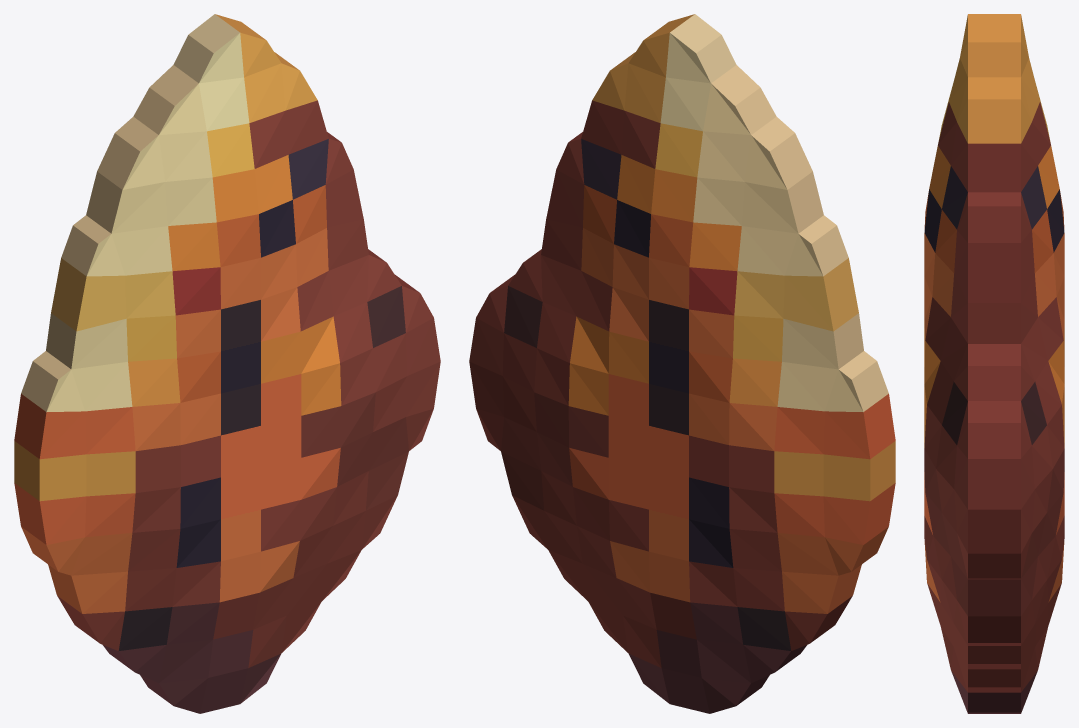
File: jagged_rock.glb
3 renders of one model, left to right at view 1: azimuth 30°, elevation 25°; view 2: azimuth 150°, elevation 25°; view 3: azimuth 270°, elevation 25°, orthographic. The views are drawn at different scales.
Visible parts, largest first — view 1: jagged_rock; view 2: jagged_rock; view 3: jagged_rock.
Part boxes in pixels (x1,y1,x2,y2): jagged_rock: [14, 14, 440, 713]; jagged_rock: [469, 14, 895, 713]; jagged_rock: [924, 14, 1064, 713].
Bounding box in the file's own units: 0.625 × 1 × 0.1813.
Materials: 1 (1 with a texture image).
